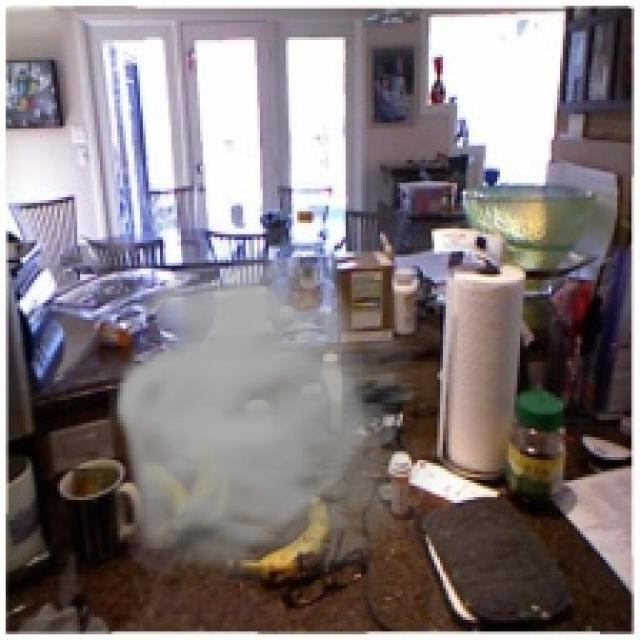Smoke: (108, 248, 460, 594)
